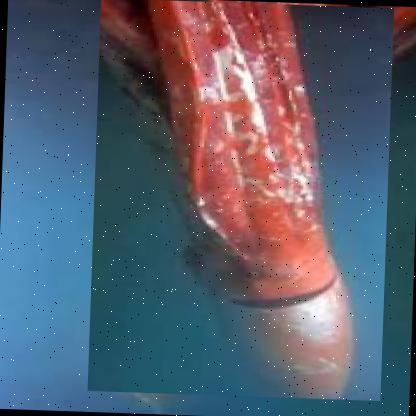colossal_squid: (86, 0, 395, 402)
